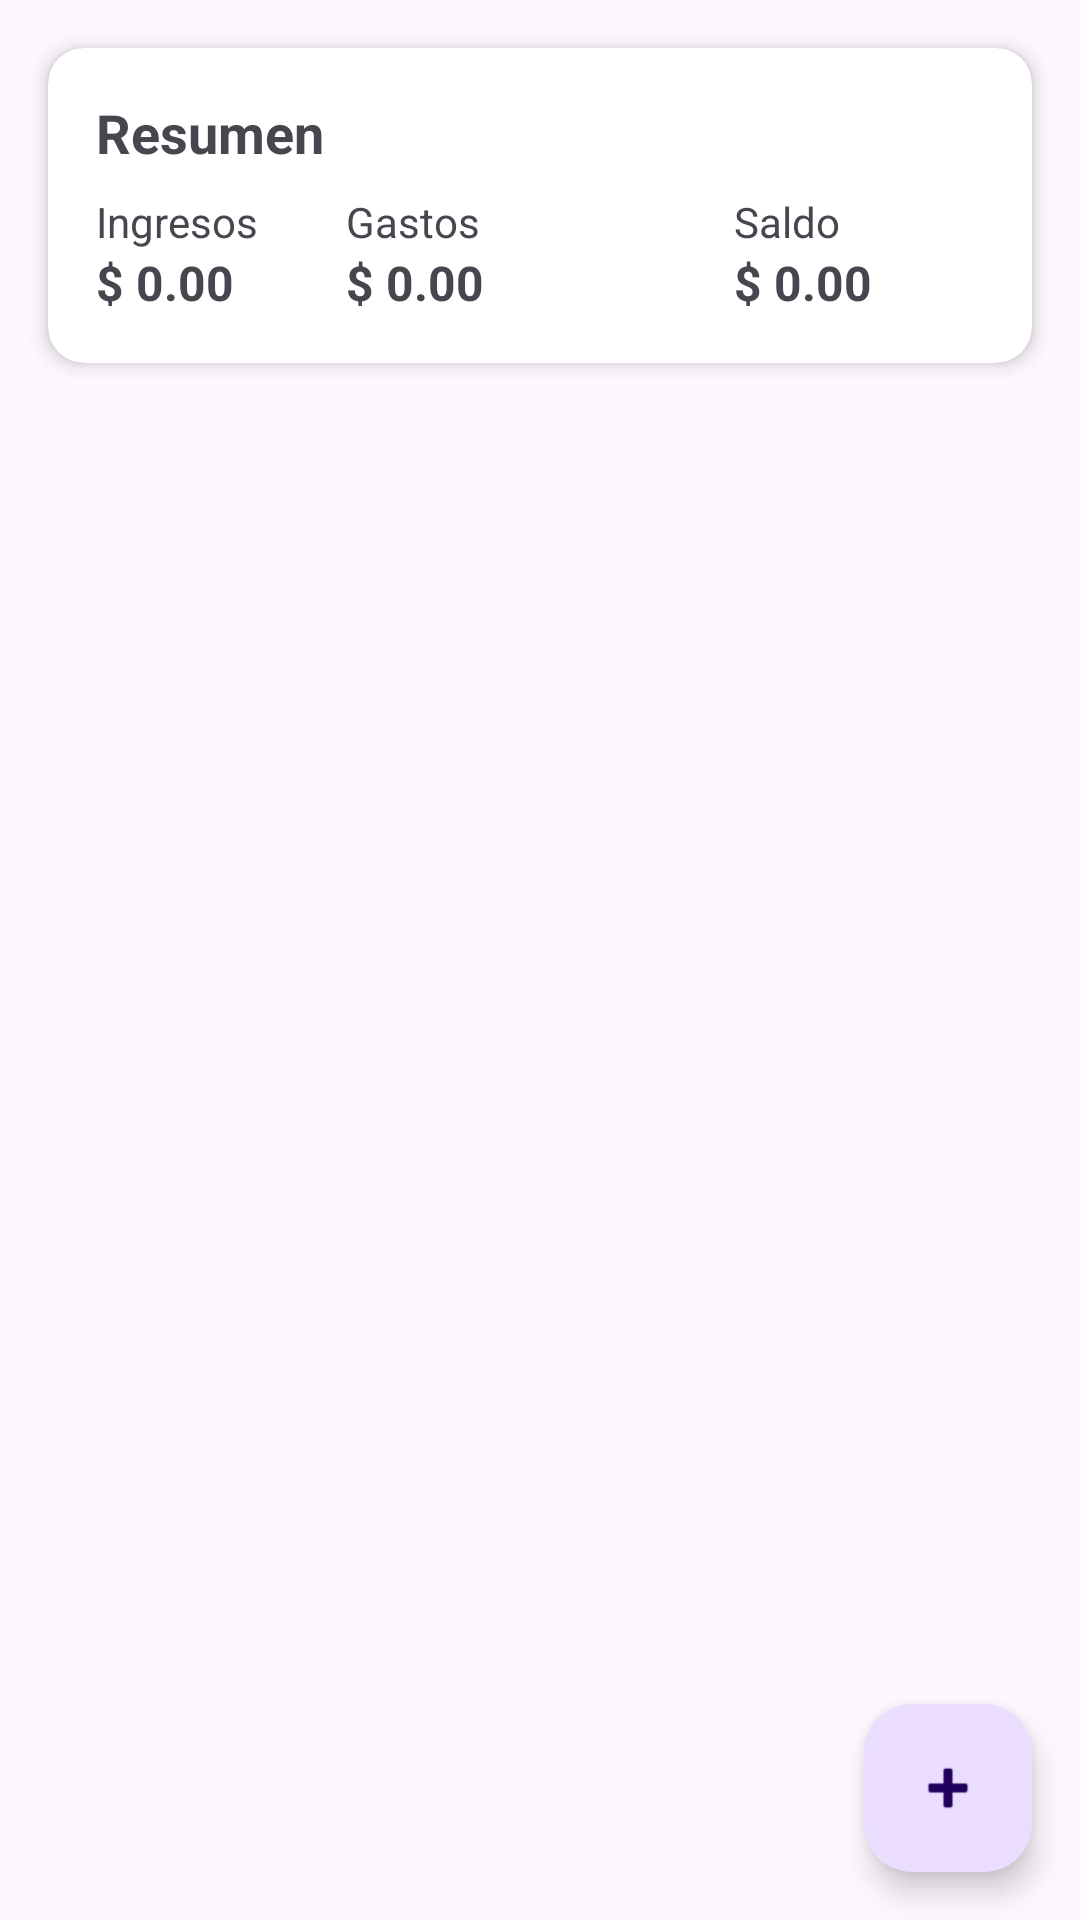

Screen size 1080 × 1920. Icon name, then its center in pixels as (x=x, y=y):
Agregar movimiento: (x=948, y=1788)
